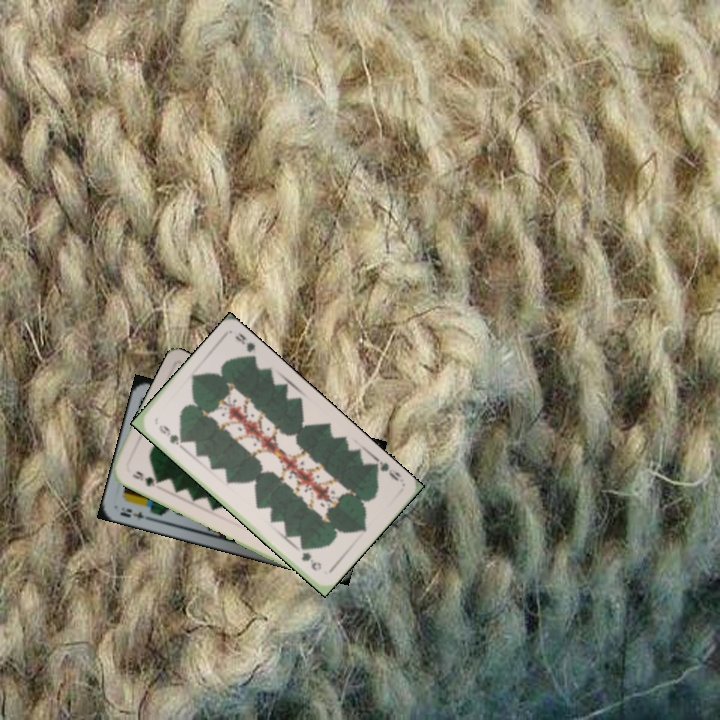EK: (115, 503, 154, 523)
G9: (368, 454, 403, 484), (155, 421, 186, 448), (128, 467, 163, 489)
